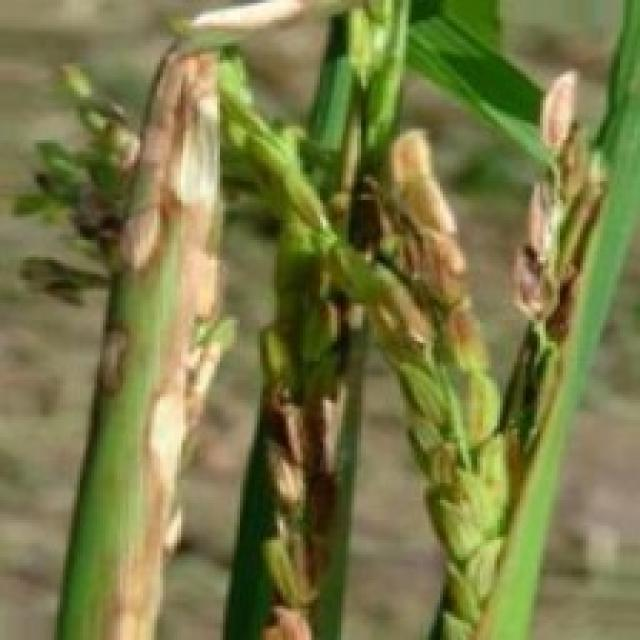Bacterial_Blight: (91, 317, 226, 640), (106, 52, 233, 314), (175, 0, 332, 51)
